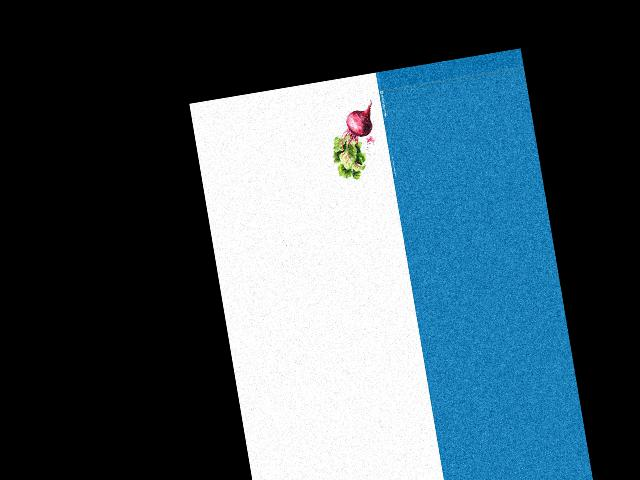beet: (324, 100, 384, 183)
